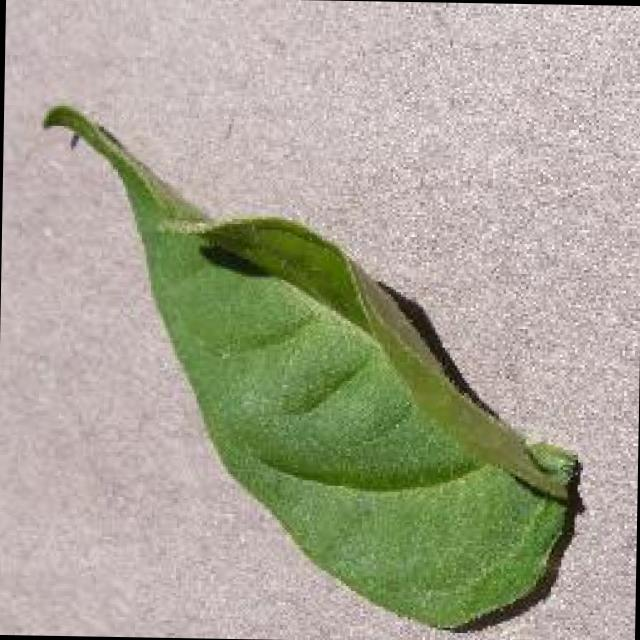Chilli_Healthy: (29, 98, 588, 634)
